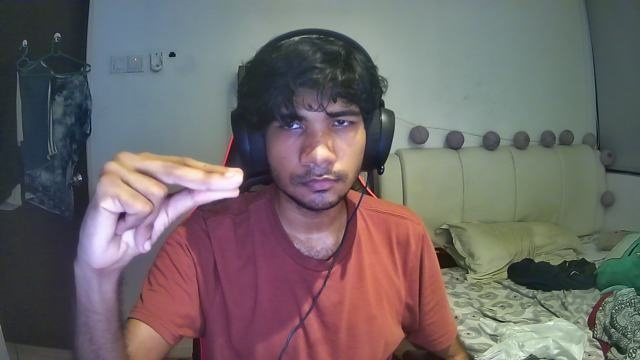No: (64, 150, 245, 270)
